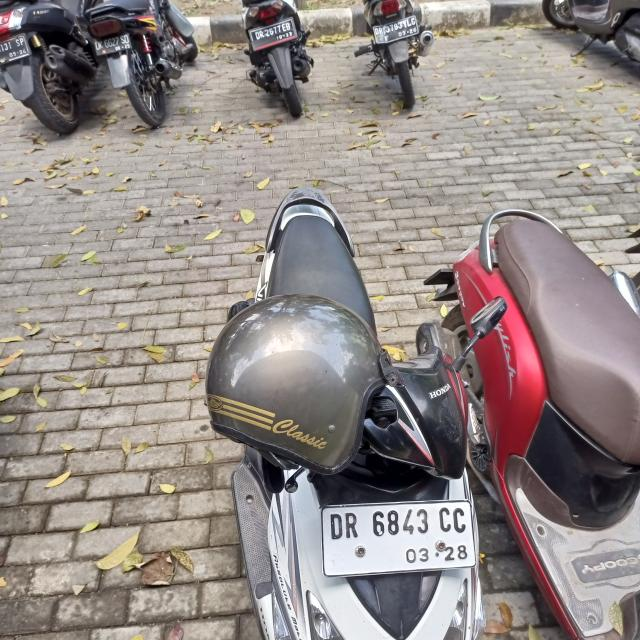plate: (322, 502, 476, 574), (246, 17, 299, 52), (371, 15, 420, 44), (92, 32, 132, 57)
